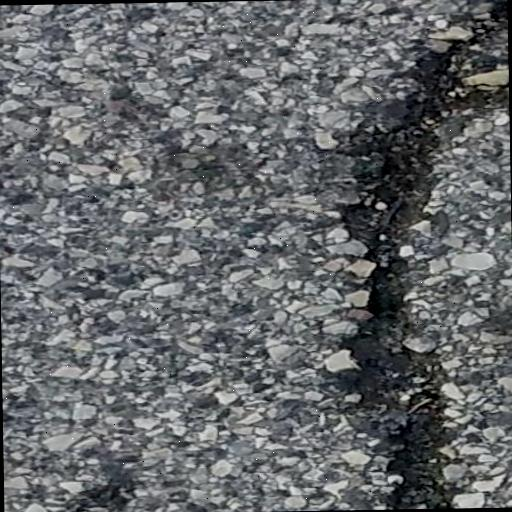spalling: (323, 0, 501, 508)
